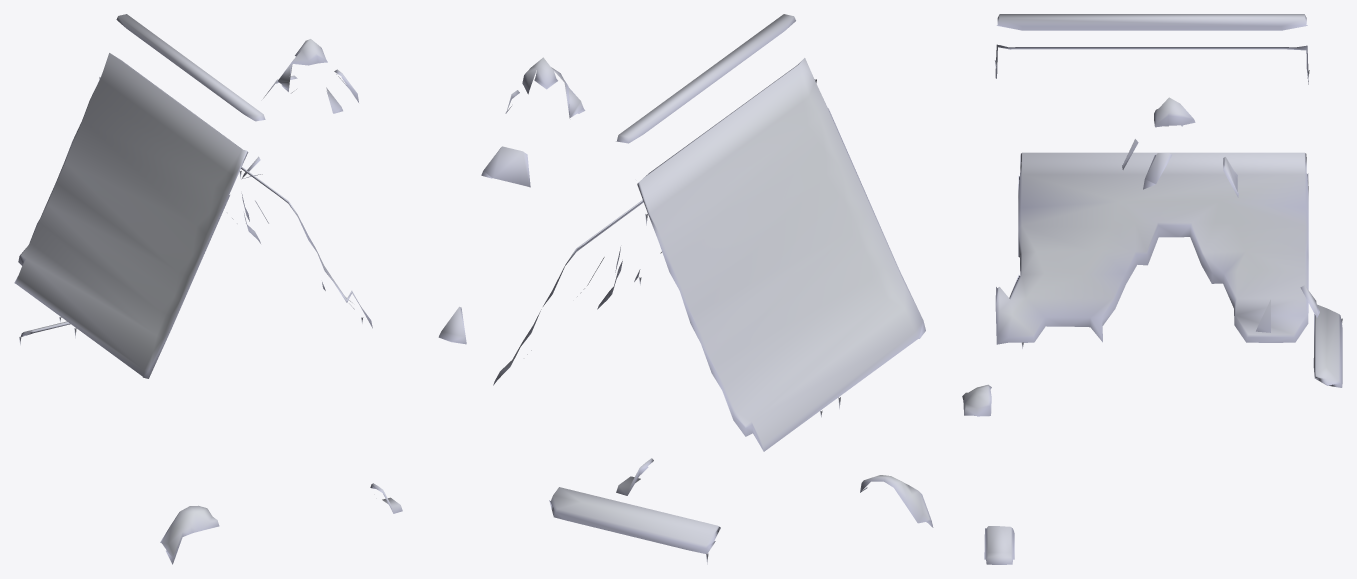
Rendered from category.staking.m.snow.glb.
3 views of the same model, side by side, from view 1: azimuth 30°, elevation 25°; view 2: azimuth 150°, elevation 25°; view 3: azimuth 270°, elevation 25° (orthographic). The views are drawn at different scales.
Parts seen in each view (by area): view 1: snow; view 2: snow, tier.4; view 3: snow, tier.4.
Boxes of the visible parts, x1=… form: snow: x1=14, y1=14, x2=402, y2=564; snow: x1=481, y1=14, x2=933, y2=564; tier.4: x1=438, y1=306, x2=466, y2=344; snow: x1=962, y1=14, x2=1342, y2=564; tier.4: x1=1256, y1=285, x2=1319, y2=332.
Size of the model in its own units: 5.57 by 7.86 by 5.72.
